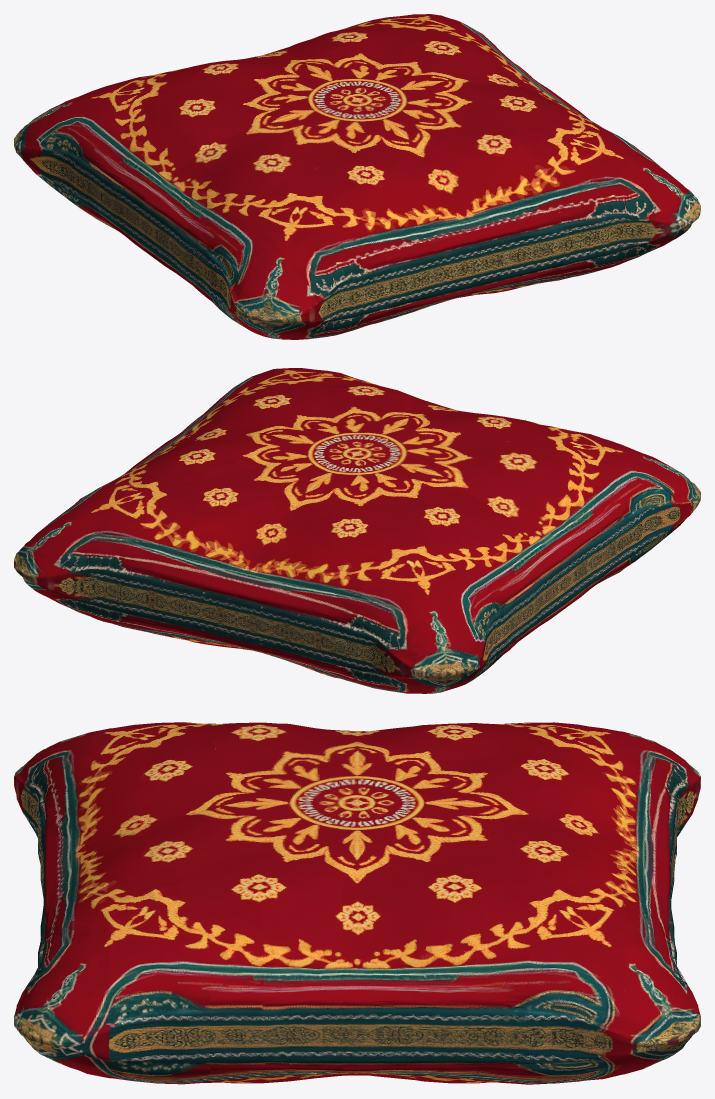
File: s1_quality_pillow_ornament.glb
The picture shows the model from 3 angles, top to bottom: view 1: azimuth 30°, elevation 25°; view 2: azimuth 150°, elevation 25°; view 3: azimuth 270°, elevation 25°; orthographic projection. The views are drawn at different scales.
Bounding box in the file's own units: 1.91 × 0.6145 × 1.91.
Materials: 1 (1 with a texture image).
